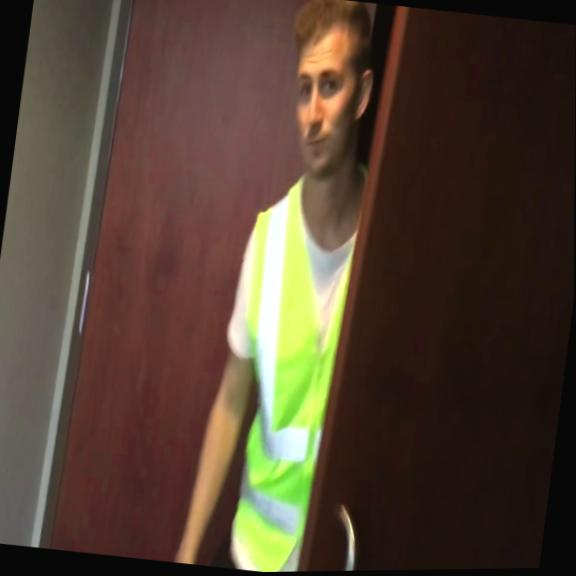safety_vest: (209, 171, 363, 573)
